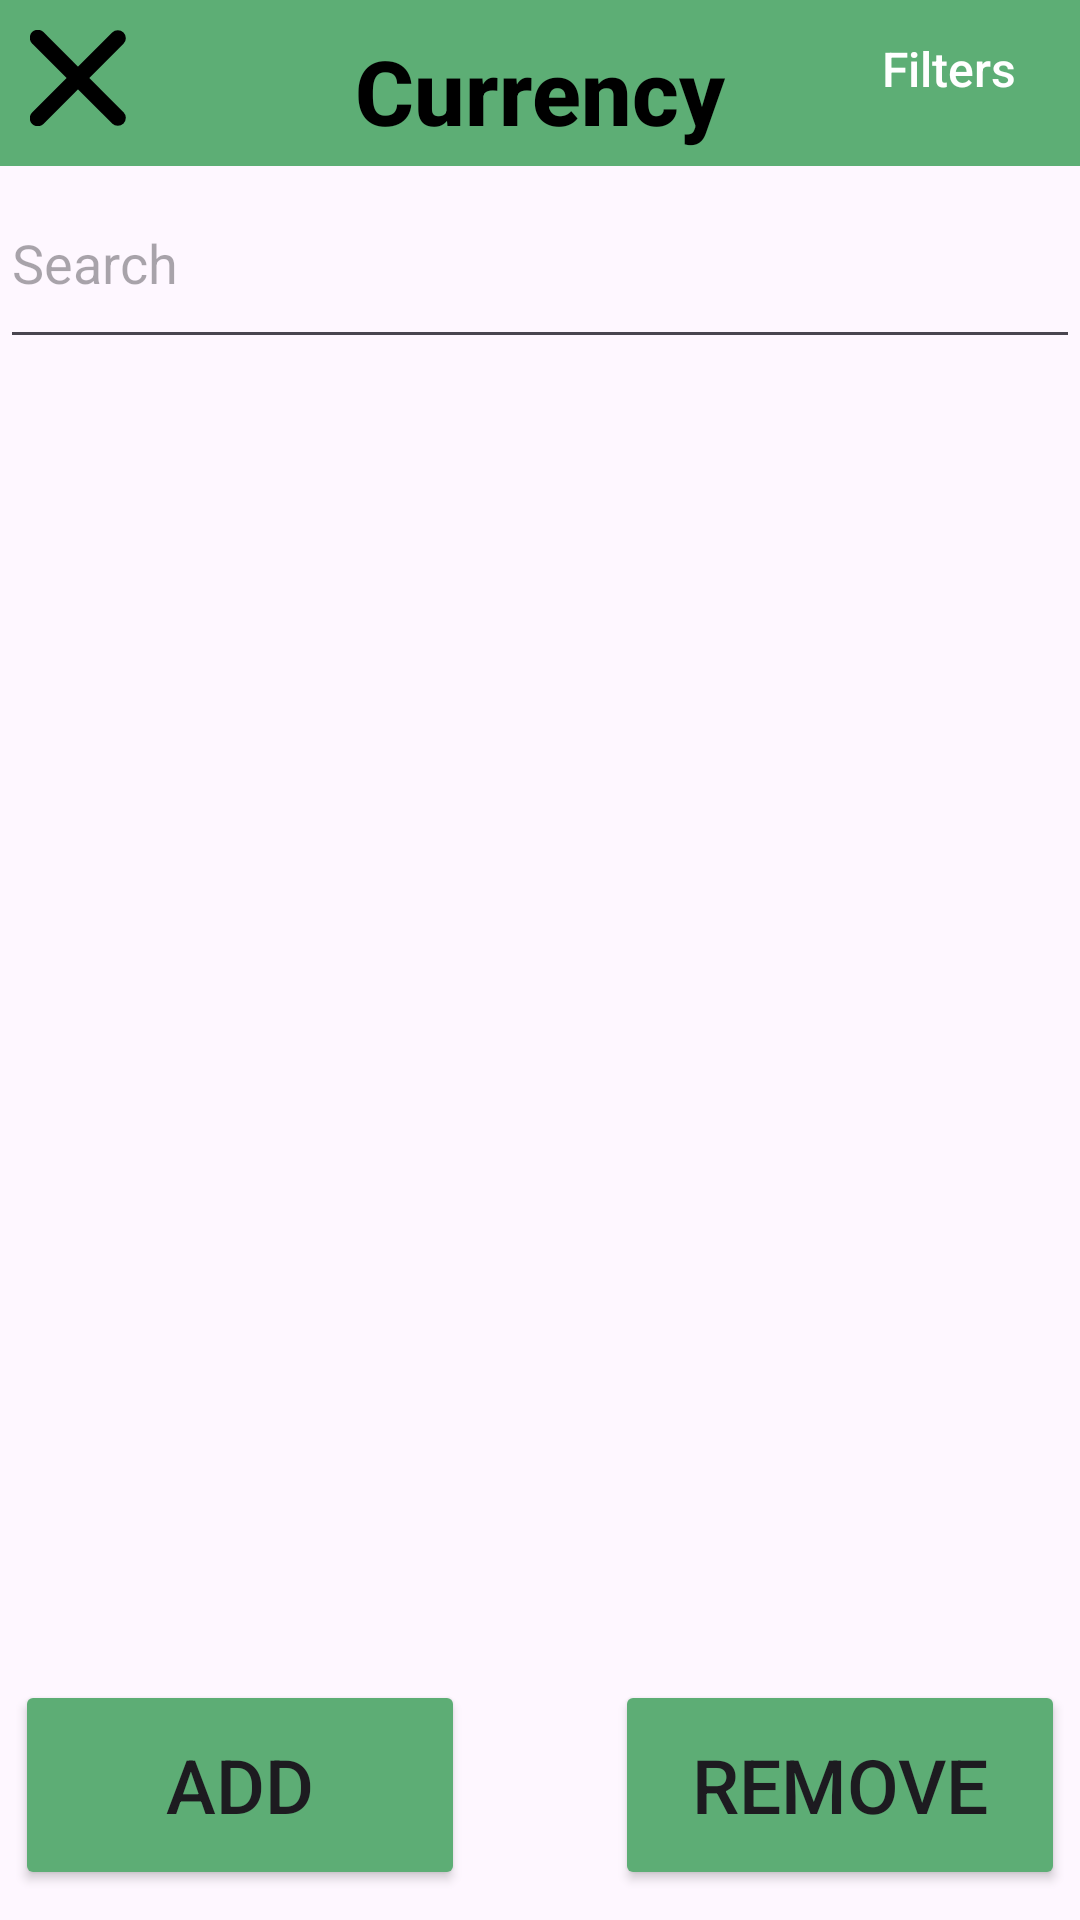

Icons on this 1080×1920 Android screen, each with the point to tap as (x,y):
close: (78,78)
